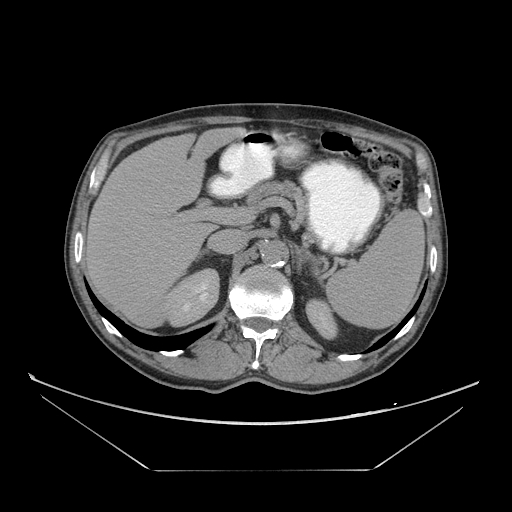left_kidney: (165, 265, 225, 330)
right_kidney: (303, 289, 345, 344)
